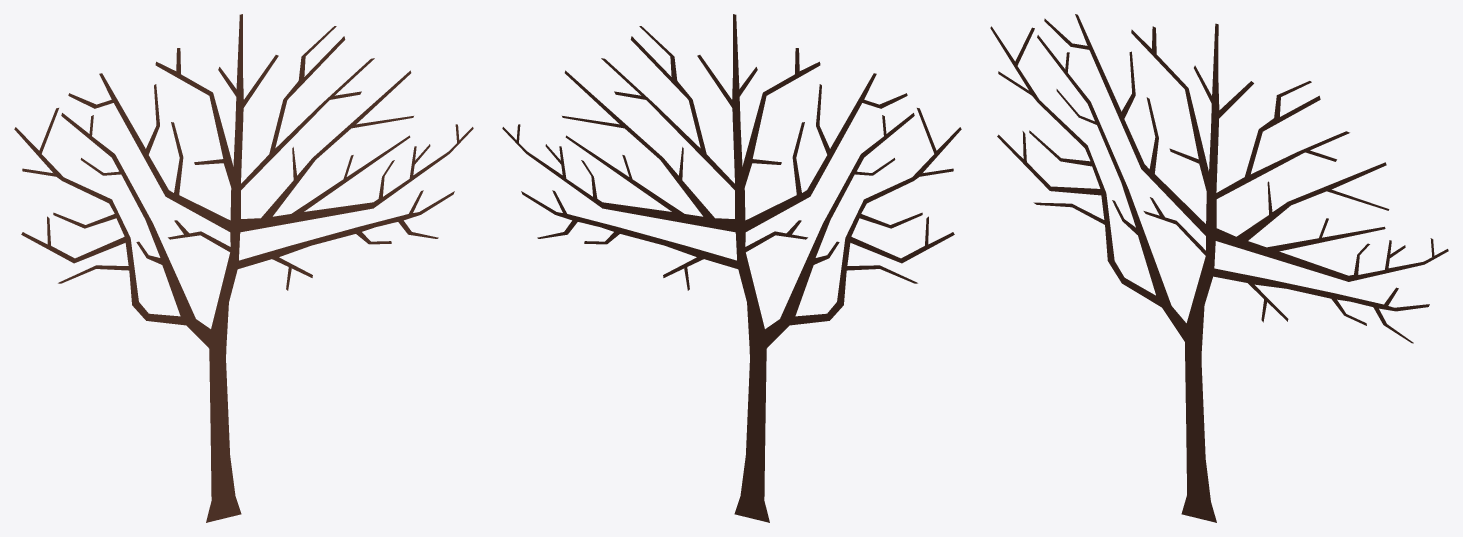
The model's file is OakTree_02.fbx.
3 renders of one model, left to right at view 1: azimuth 30°, elevation 25°; view 2: azimuth 150°, elevation 25°; view 3: azimuth 330°, elevation 25°, orthographic.
Visible parts, largest first — view 1: nurbsToPoly1; view 2: nurbsToPoly1; view 3: nurbsToPoly1.
Part boxes in pixels (x1=…): nurbsToPoly1: x1=14, y1=14, x2=473, y2=522; nurbsToPoly1: x1=502, y1=14, x2=961, y2=522; nurbsToPoly1: x1=990, y1=14, x2=1448, y2=522.
Size of the model in its own units: 17.61 by 18.31 by 0.
1 material, 1 textured.
